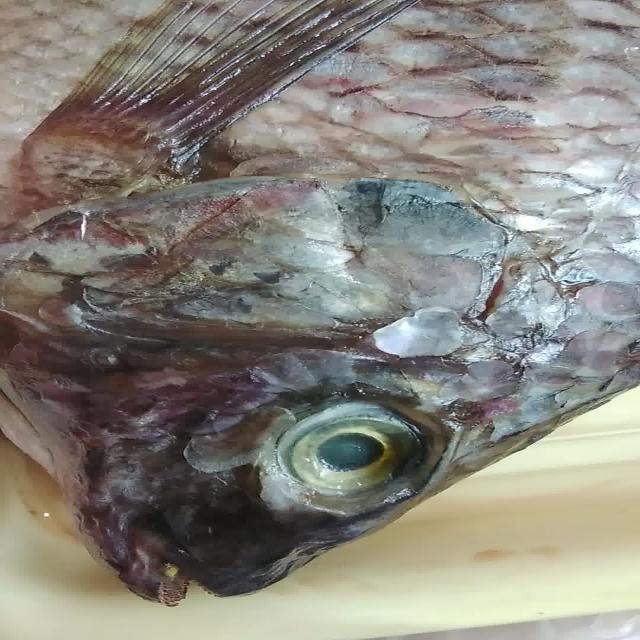Non-Fresh: (12, 6, 624, 370), (237, 384, 450, 506)
